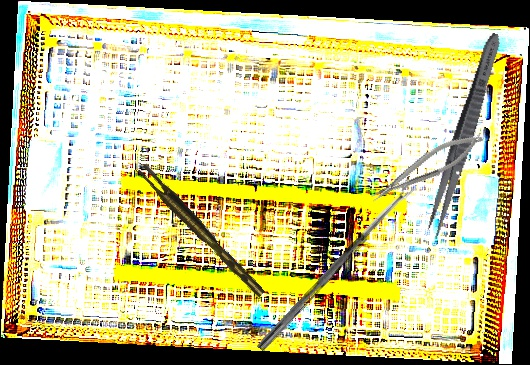Dressing Forceps: (422, 30, 506, 242)
Needle Holder: (363, 125, 490, 208)
Surgical Spoon: (256, 183, 416, 353)
Tissue Forceps: (136, 159, 266, 304)
